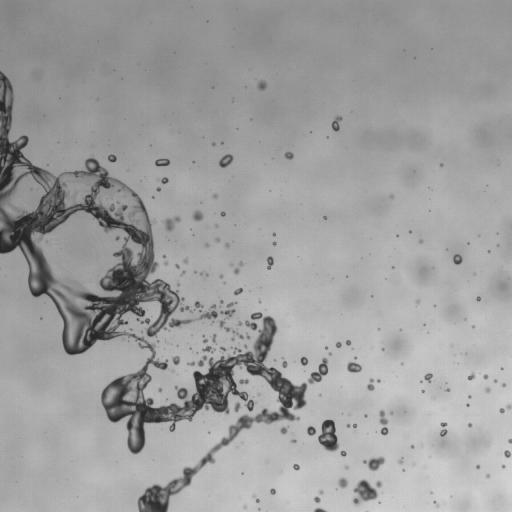droplet: (352, 479, 381, 505), (318, 419, 339, 451), (363, 456, 385, 471), (220, 301, 236, 319), (163, 215, 180, 231), (202, 336, 214, 352), (219, 154, 233, 167), (347, 361, 361, 372), (332, 116, 342, 131), (192, 210, 203, 221), (155, 158, 169, 166), (306, 425, 316, 435), (338, 477, 347, 488), (366, 378, 374, 390), (257, 80, 266, 90), (453, 254, 462, 264), (171, 356, 180, 365), (424, 373, 432, 382), (234, 402, 241, 412), (108, 154, 116, 162), (300, 357, 308, 365), (467, 372, 475, 380), (280, 426, 288, 434), (284, 152, 293, 159), (160, 177, 168, 184), (234, 288, 242, 295), (239, 378, 248, 384), (504, 450, 511, 457), (314, 496, 320, 503), (340, 450, 346, 456), (293, 464, 299, 470), (282, 360, 287, 367), (398, 458, 403, 464), (270, 488, 275, 494), (237, 321, 242, 326), (346, 340, 351, 345), (336, 342, 341, 347), (485, 387, 490, 392), (389, 194, 393, 199), (221, 211, 225, 216), (215, 237, 219, 242), (183, 258, 187, 263), (483, 374, 487, 379), (291, 439, 296, 443), (434, 501, 438, 506), (156, 187, 160, 191), (213, 194, 217, 198), (419, 239, 423, 243), (175, 264, 179, 268), (181, 271, 185, 275), (219, 274, 223, 278), (476, 297, 480, 301), (502, 383, 506, 387), (158, 388, 162, 392), (501, 464, 505, 468), (319, 490, 323, 494), (508, 438, 511, 443), (225, 243, 228, 247), (164, 261, 167, 265), (416, 299, 419, 303), (445, 388, 449, 391), (468, 423, 472, 426), (344, 465, 348, 468), (273, 242, 276, 245), (205, 244, 208, 247), (162, 255, 165, 258), (220, 300, 223, 303), (494, 379, 497, 382), (421, 390, 424, 393), (476, 465, 479, 468), (486, 474, 489, 477), (243, 505, 246, 508), (212, 143, 215, 145), (272, 233, 275, 235), (257, 393, 260, 395), (411, 445, 413, 448), (324, 216, 326, 218), (215, 224, 217, 226), (177, 282, 179, 284), (258, 300, 260, 302), (377, 380, 379, 382), (390, 412, 392, 414)
ligament: (0, 71, 328, 511), (379, 410, 388, 435), (233, 261, 243, 274), (440, 422, 447, 436), (499, 404, 511, 412), (267, 256, 273, 269), (313, 507, 326, 511), (211, 334, 216, 344), (253, 495, 259, 502), (347, 424, 356, 428), (200, 272, 207, 276)
